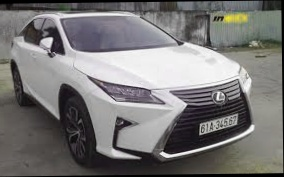Bien-so: (200, 113, 238, 136)
